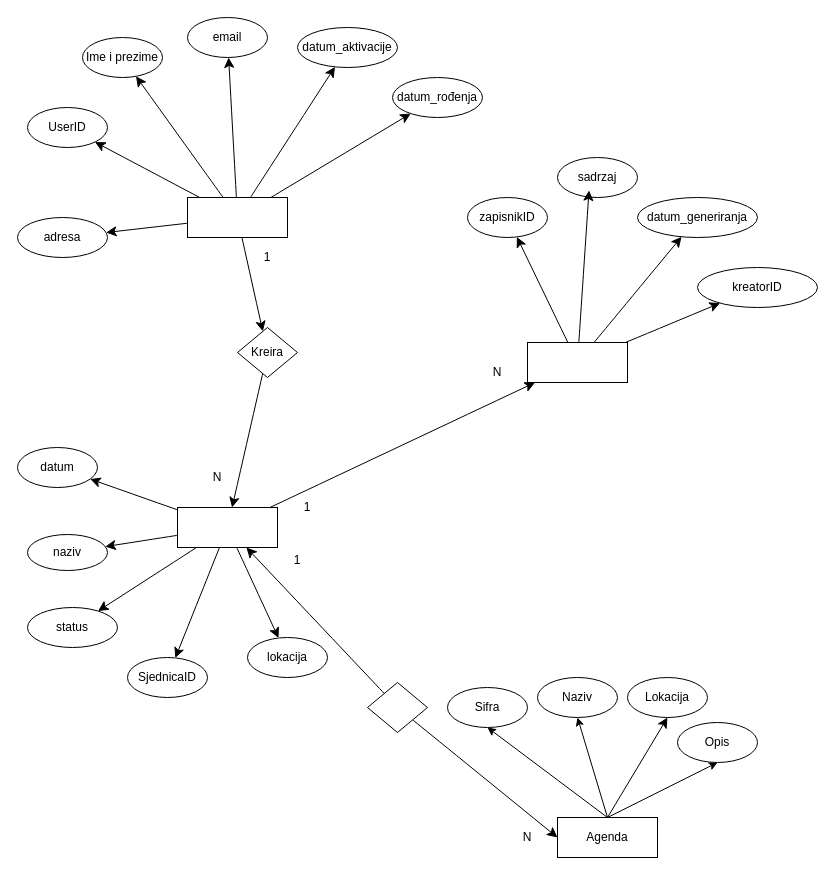
Some shapes in this 835 by 875 pixel diagram are drawn without their labels. Each missing label, with the centre of its shape:
ima: [397,707]
Korisnik: [237,217]
Sjednica: [227,527]
Zapisnik: [577,362]
